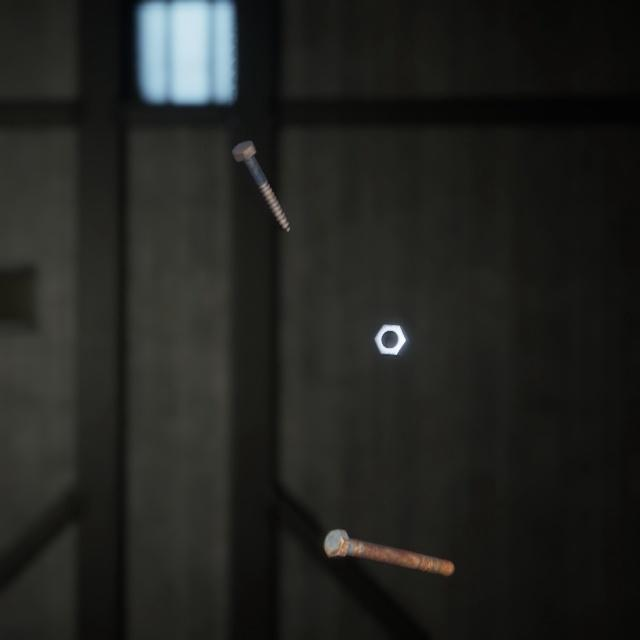bolt: (319, 502, 459, 559), (228, 121, 294, 222)
nut: (369, 302, 414, 343)
